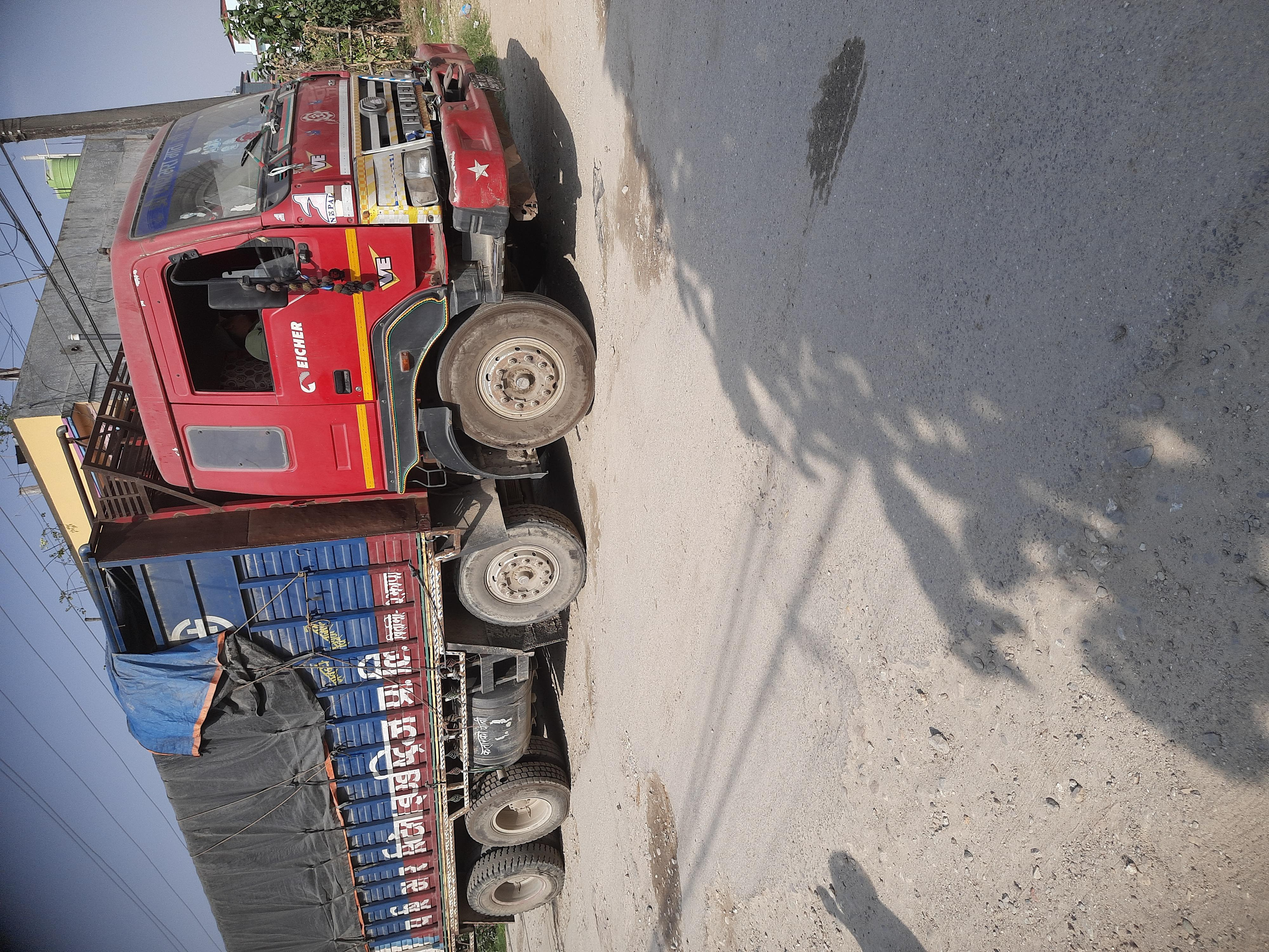license plate: (1149, 351, 1173, 377)
